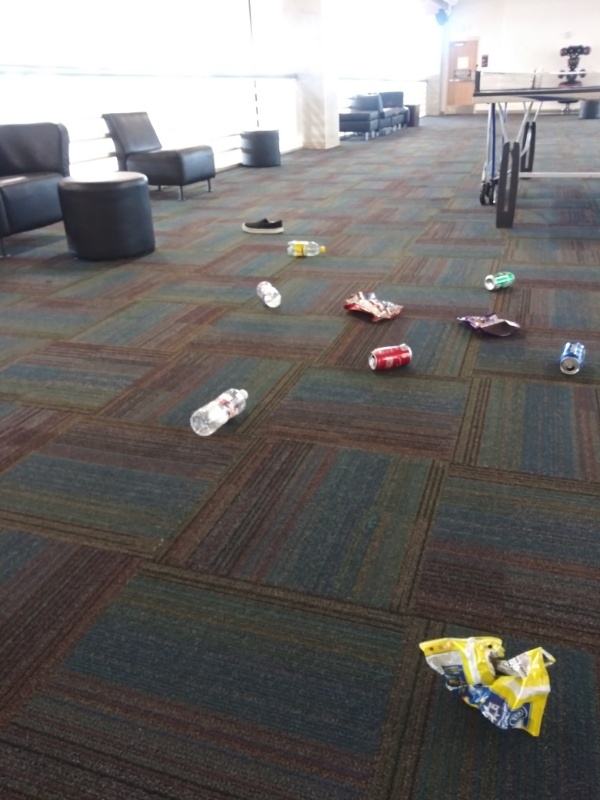bag: (411, 628, 558, 743), (340, 288, 406, 326), (447, 311, 523, 342)
bottle: (186, 384, 252, 443), (283, 236, 329, 260), (253, 276, 284, 310)
can: (365, 339, 416, 371), (556, 338, 589, 380), (479, 269, 518, 296)
